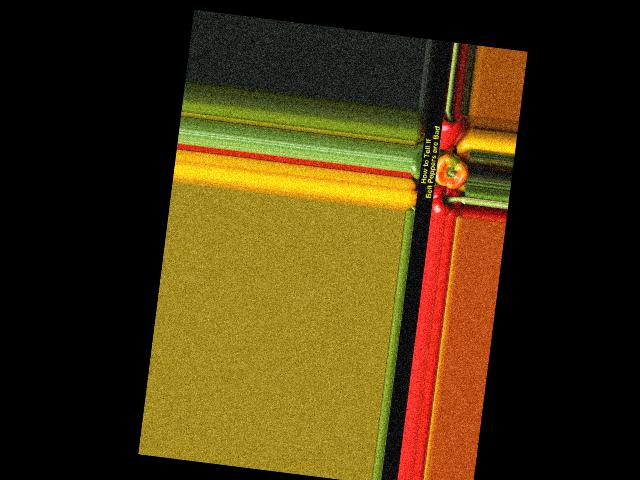bell_pepper: (428, 182, 467, 217)
